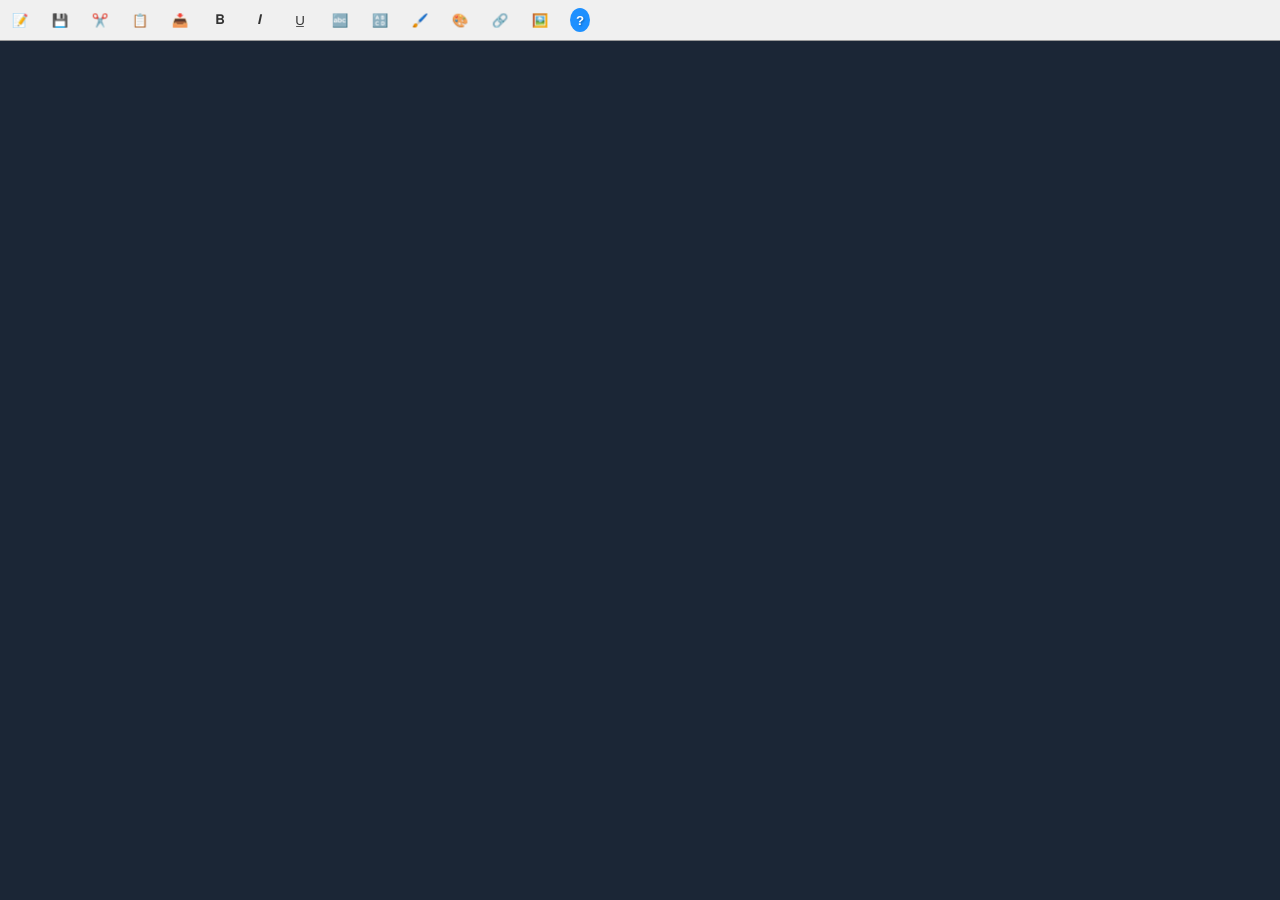
Scenario: MenuBar › opens Bug Reporting dialog
Click the button named "Help": (580, 20) [564,4,596,36]
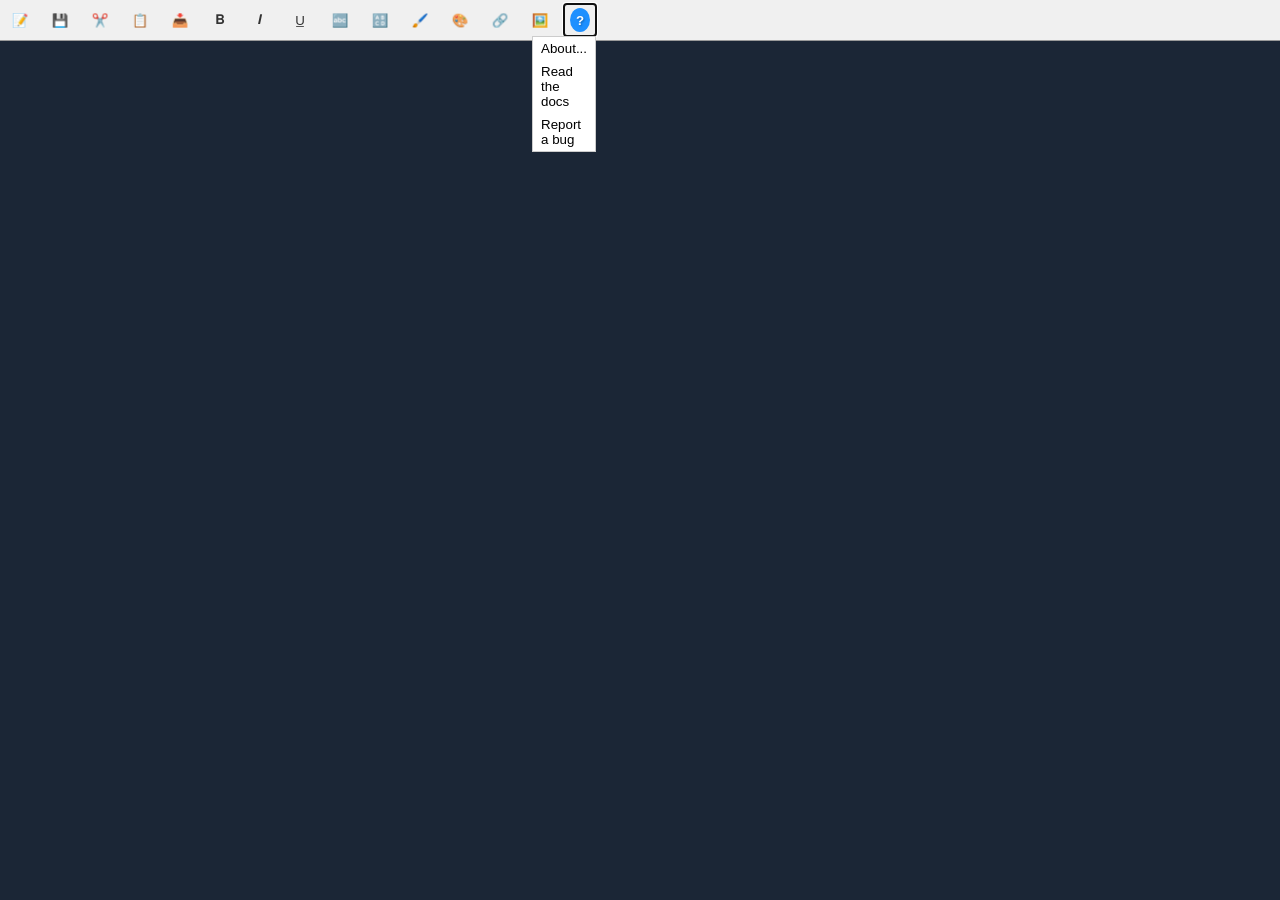
Click the menu item "Report a bug": (564, 132) [533,113,595,151]
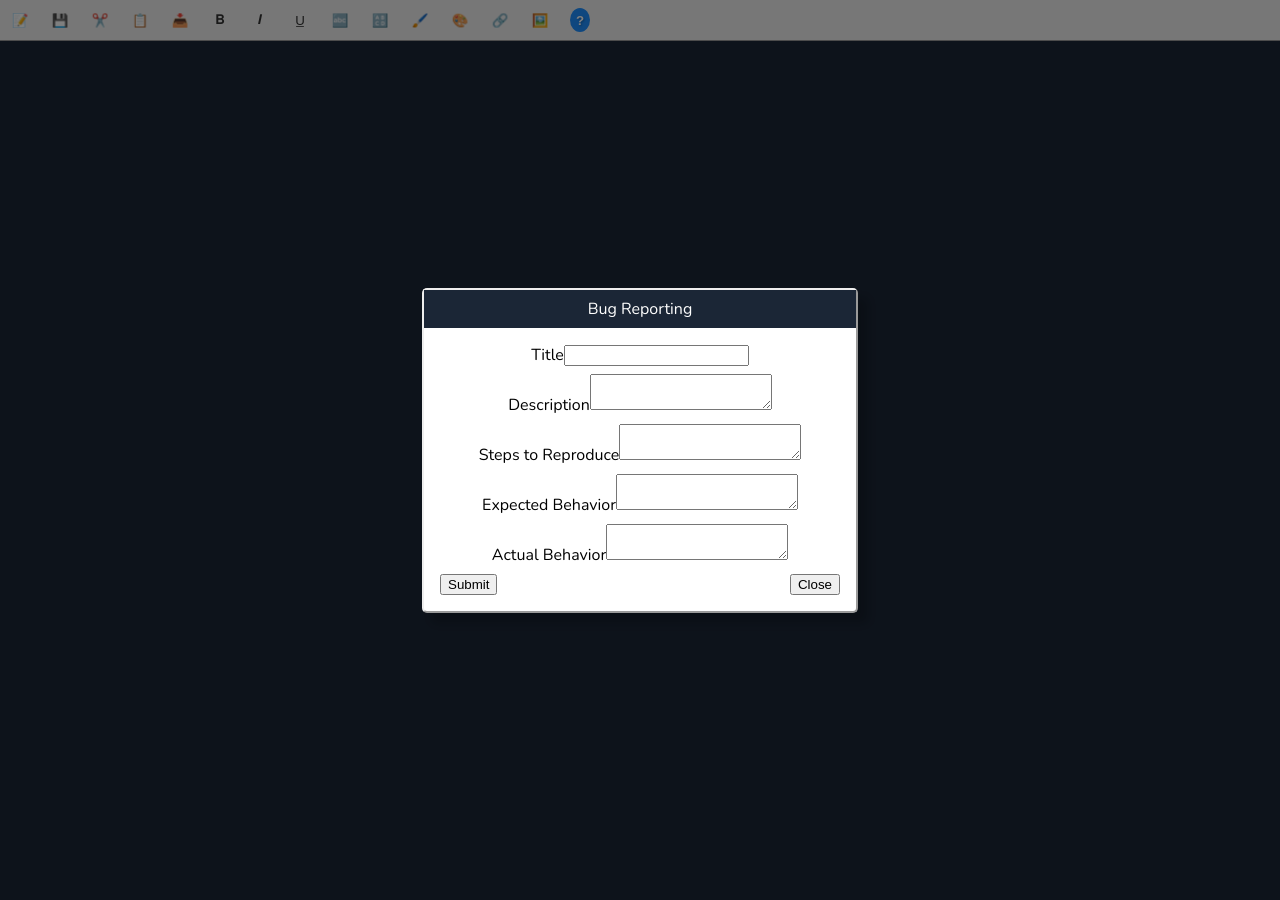
Result: the text "Bug Reporting" is shown at [424,290,856,328]
